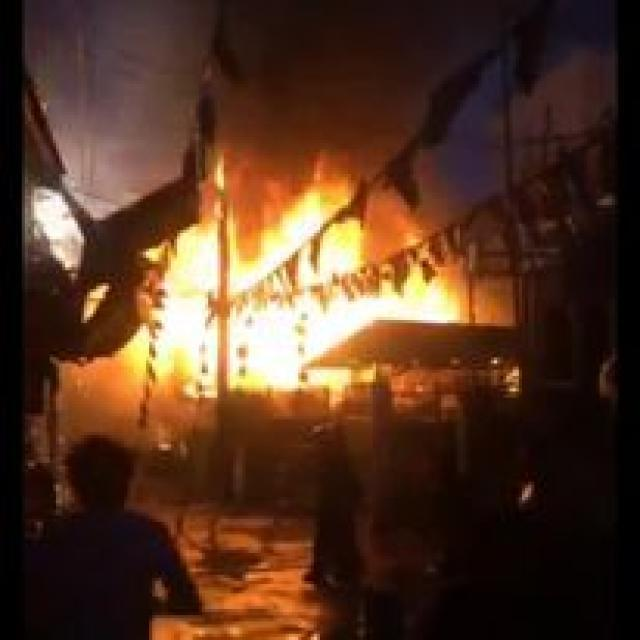Fire: (142, 145, 462, 399)
